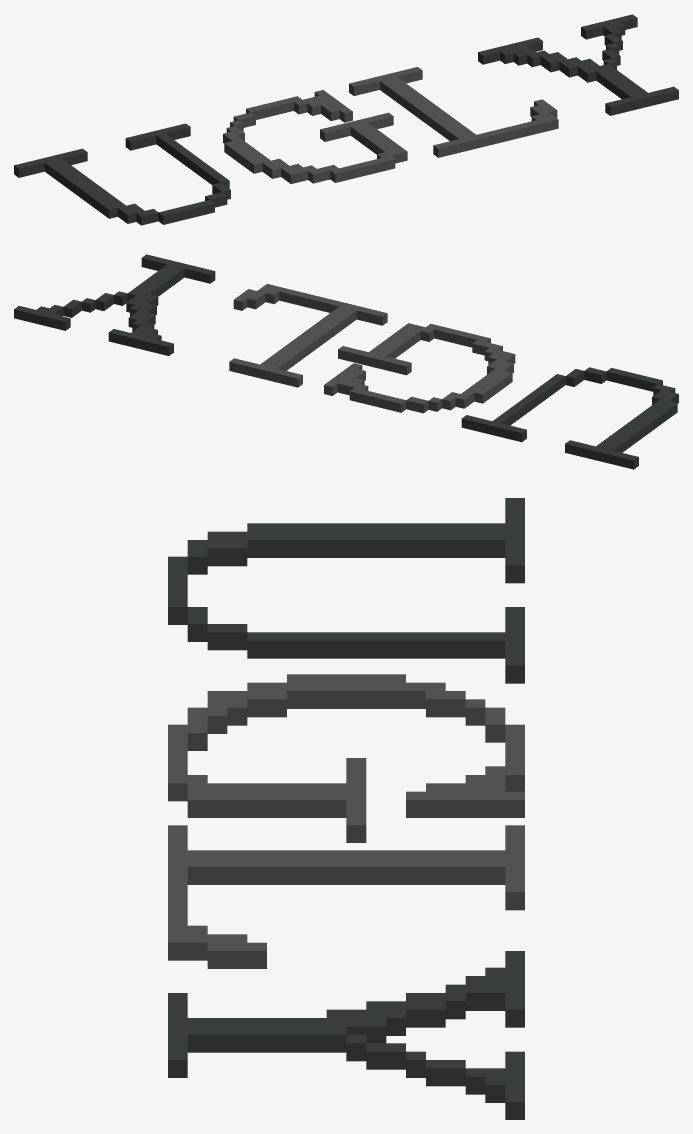
File: ugly-0-ugly.obj
3 renders of one model, top to bottom at view 1: azimuth 30°, elevation 25°; view 2: azimuth 150°, elevation 25°; view 3: azimuth 270°, elevation 25°, orthographic. The views are drawn at different scales.
Parts seen in each view (by area): view 1: ugly; view 2: ugly; view 3: ugly.
Part boxes in pixels (left/top/right/bottom): ugly: left=14, top=14, right=678, bottom=225; ugly: left=14, top=254, right=678, bottom=469; ugly: left=168, top=498, right=524, bottom=1119.
Size of the model in its own units: 7.2 by 0.1 by 1.8.
1 material, 1 textured.
